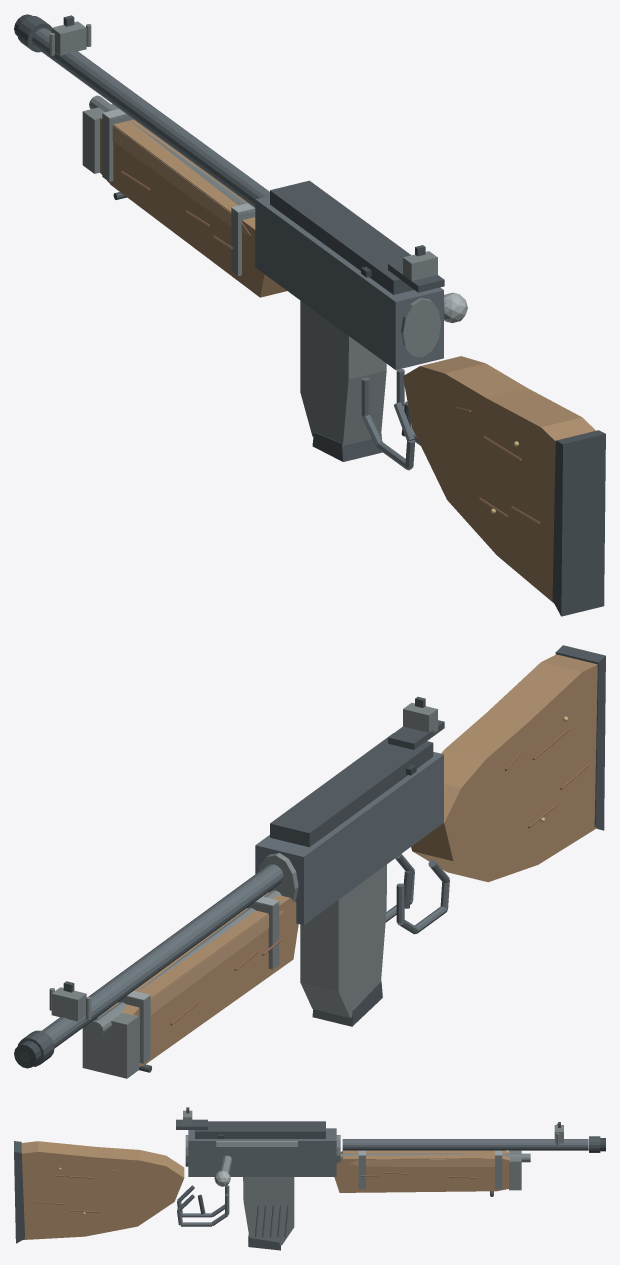
3 renders of one model, top to bottom at view 1: azimuth 30°, elevation 25°; view 2: azimuth 150°, elevation 25°; view 3: azimuth 270°, elevation 25°, orthographic. The views are drawn at different scales.
Parts seen in each view (by area): view 1: WoodWalnut, BluedSteel, DarkSteel, Gunmetal, WoodLight, EdgeSteel; view 2: WoodWalnut, BluedSteel, Gunmetal, DarkSteel, WoodLight, SteelShadow, WoodDark; view 3: WoodWalnut, BluedSteel, Gunmetal, DarkSteel, WoodLight, EdgeSteel, WoodDark.
Part boxes in pixels (x1,y1,x2,y2): WoodWalnut: (99,117,595,602); BluedSteel: (32,28,443,470); DarkSteel: (17,15,605,616); Gunmetal: (49,21,446,445); WoodLight: (112,125,250,235); EdgeSteel: (102,109,467,323); WoodWalnut: (108,654,597,1066); BluedSteel: (42,752,449,1047); Gunmetal: (49,702,437,1078); DarkSteel: (18,645,605,1072); WoodLight: (150,910,284,1014); SteelShadow: (14,764,416,1068); WoodDark: (170,727,589,1025); WoodWalnut: (21,1141,509,1239); BluedSteel: (177,1128,588,1237); Gunmetal: (183,1110,563,1245); DarkSteel: (14,1107,600,1250); WoodLight: (349,1158,494,1166); EdgeSteel: (214,1141,502,1186); WoodDark: (35,1169,477,1212).
Bounding box in the file's own units: 0.133 × 0.3115 × 1.22.
